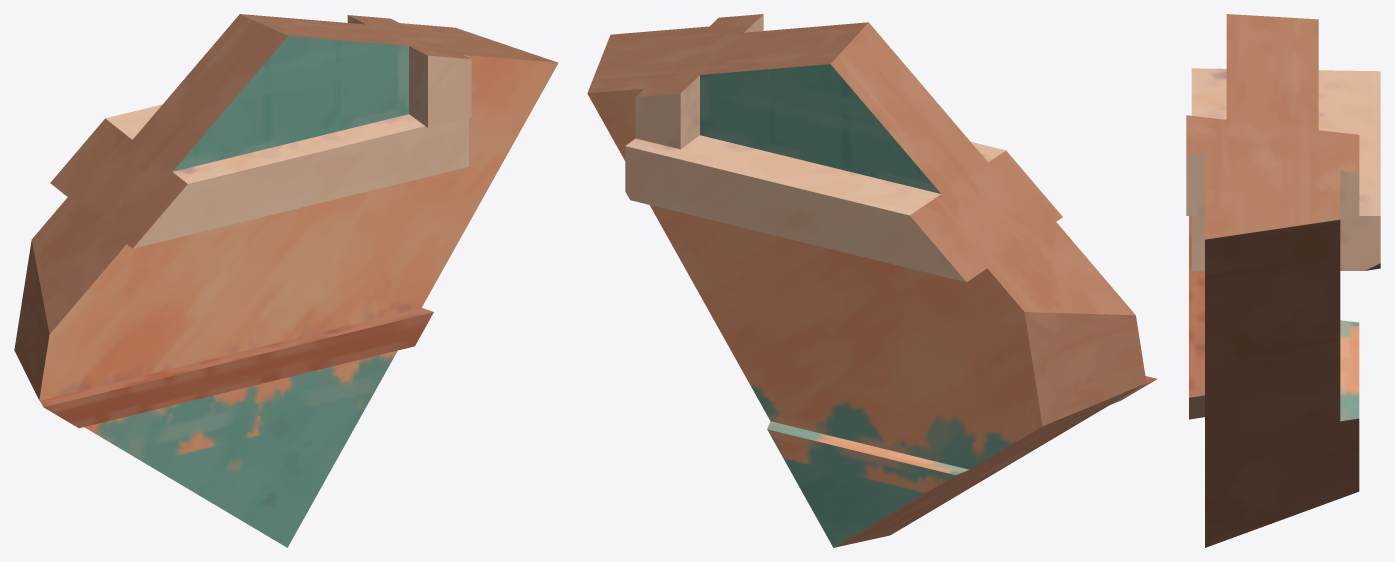
The model's file is wall2_shutter_s04.fbx.
3 renders of one model, left to right at view 1: azimuth 30°, elevation 25°; view 2: azimuth 150°, elevation 25°; view 3: azimuth 270°, elevation 25°, orthographic. The views are drawn at different scales.
Visible parts, largest first — view 1: wall2_shutter_s04; view 2: wall2_shutter_s04; view 3: wall2_shutter_s04.
Boxes of the visible parts, left/top/right/bottom form: wall2_shutter_s04: left=14, top=14, right=558, bottom=547; wall2_shutter_s04: left=587, top=14, right=1156, bottom=547; wall2_shutter_s04: left=1186, top=14, right=1380, bottom=547.
Bounding box in the file's own units: 4.8 × 4.41 × 1.44.
